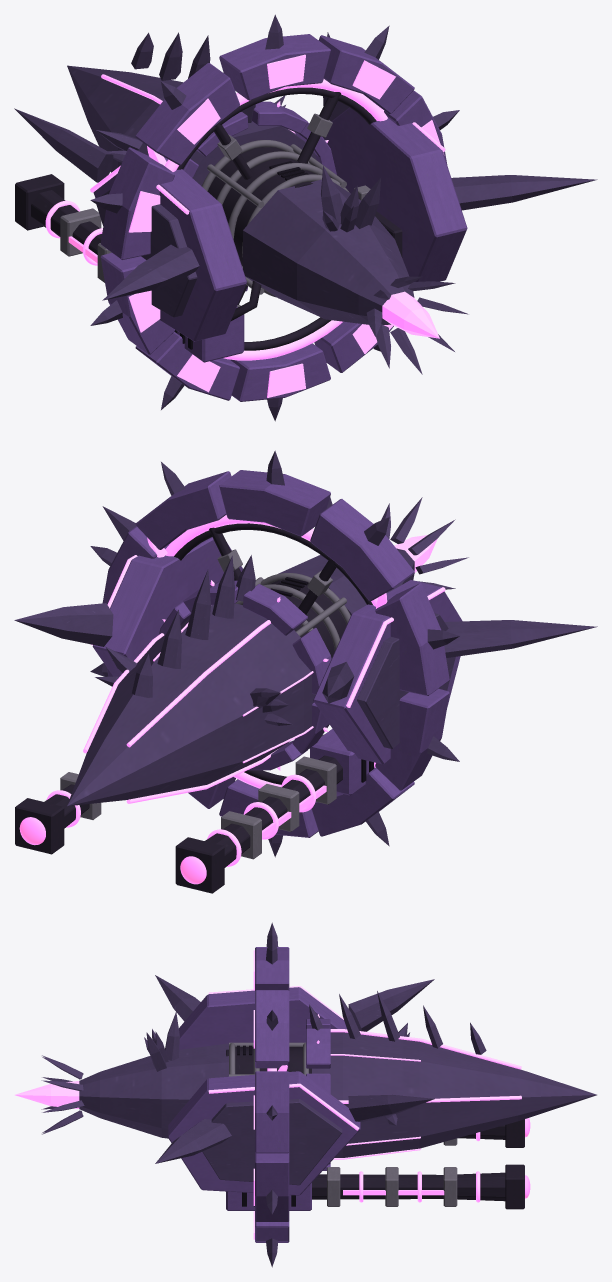
Rendered from spireguard.glb.
3 renders of one model, top to bottom at view 1: azimuth 30°, elevation 25°; view 2: azimuth 150°, elevation 25°; view 3: azimuth 270°, elevation 25°, orthographic. The views are drawn at different scales.
Parts seen in each view (by area): view 1: Spireguard.001; view 2: Spireguard.001; view 3: Spireguard.001.
Boxes of the visible parts, left/top/right/bottom form: Spireguard.001: left=14, top=14, right=597, bottom=421; Spireguard.001: left=14, top=450, right=597, bottom=893; Spireguard.001: left=15, top=922, right=596, bottom=1267.
Bounding box in the file's own units: 5.22 × 4.1 × 6.8.
7 materials, 7 textured.
